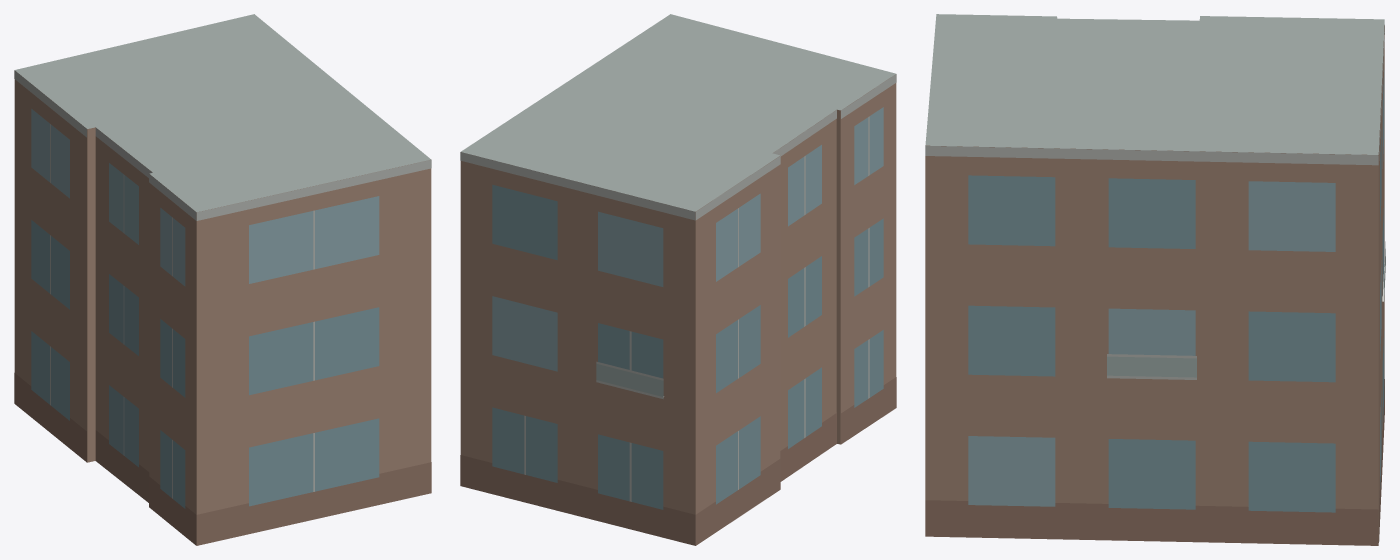
File: survey-upis-32672522.glb
3 renders of one model, left to right at view 1: azimuth 30°, elevation 25°; view 2: azimuth 150°, elevation 25°; view 3: azimuth 270°, elevation 25°, orthographic. The views are drawn at different scales.
Parts seen in each view (by area): view 1: survey-upis-32672522.tmp; view 2: survey-upis-32672522.tmp; view 3: survey-upis-32672522.tmp.
Boxes of the visible parts, x1,y1,x2,y2 form: survey-upis-32672522.tmp: (14,14,431,545); survey-upis-32672522.tmp: (460,14,896,545); survey-upis-32672522.tmp: (925,14,1385,545).
Bounding box in the file's own units: 7.18 × 9.27 × 9.9.
